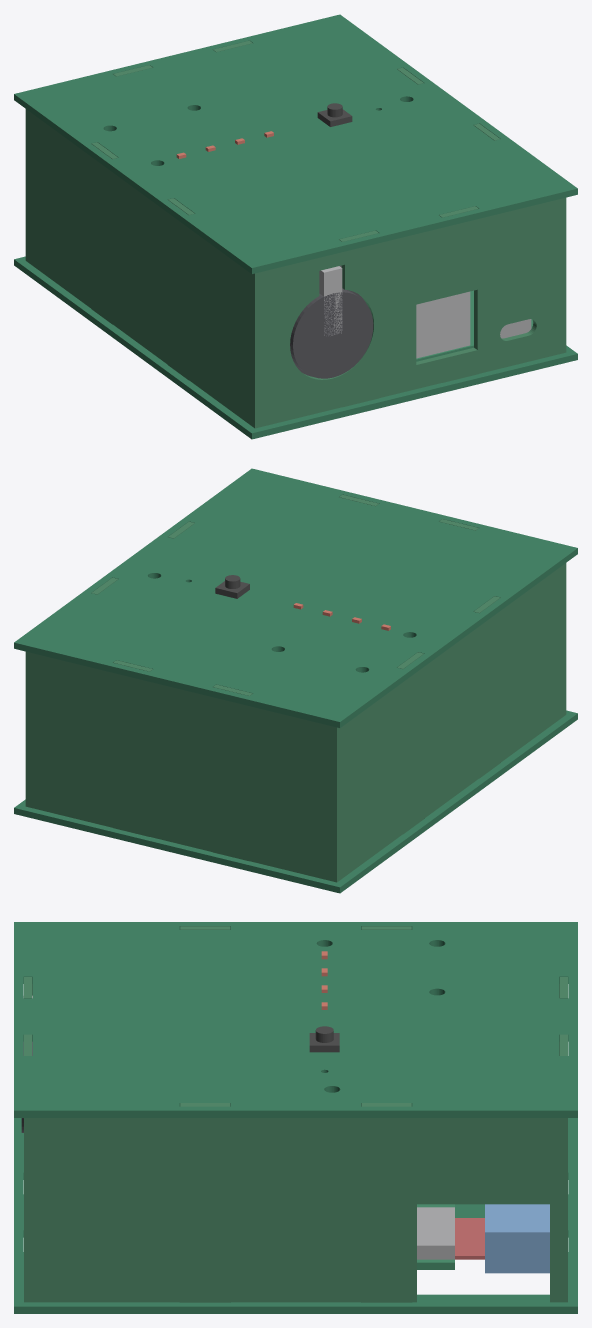
Rendered from case_assembly.glb.
The picture shows the model from 3 angles, top to bottom: view 1: azimuth 30°, elevation 25°; view 2: azimuth 150°, elevation 25°; view 3: azimuth 270°, elevation 25°; orthographic projection. The views are drawn at different scales.
Parts seen in each view (by area): view 1: top_0, front_0, left_0, bottom_0, main_9, main_7, right_0, main_10; view 2: top_0, back_0, left_0, bottom_0, right_0; view 3: top_0, right_0, bottom_0, main_11, main_1, main_2, main_0.
Part boxes in pixels (x1,y1,x2,y2): top_0: (14, 14, 577, 273); front_0: (260, 199, 560, 426); left_0: (25, 109, 260, 428); bottom_0: (14, 256, 577, 439); main_9: (290, 289, 373, 378); main_7: (416, 291, 470, 358); right_0: (397, 67, 566, 353); main_10: (319, 266, 342, 335); top_0: (14, 468, 577, 727); back_0: (31, 653, 331, 880); left_0: (331, 563, 566, 882); bottom_0: (14, 710, 577, 893); right_0: (25, 521, 194, 807); top_0: (14, 922, 577, 1117); right_0: (24, 1103, 567, 1302); bottom_0: (14, 1118, 577, 1313); main_11: (485, 1204, 549, 1273); main_1: (417, 1207, 454, 1259); main_2: (455, 1218, 484, 1259); main_0: (417, 1204, 454, 1269).
Size of the model in its own units: 89.2 by 48.3 by 113.
